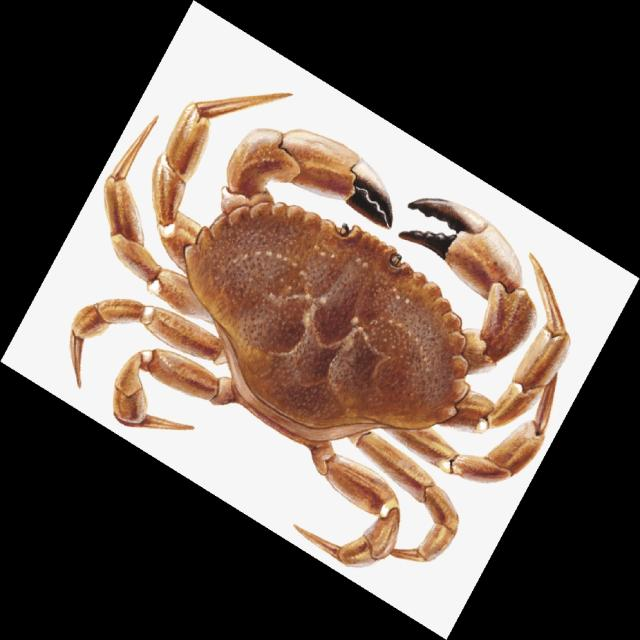Native Jonah crab: (71, 96, 569, 565)
